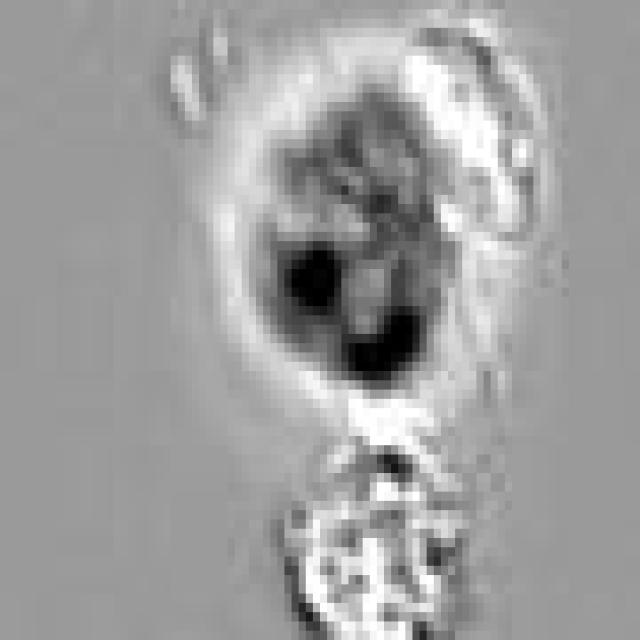Cancer Cell: (235, 47, 505, 390)
WBC: (284, 426, 462, 640)
